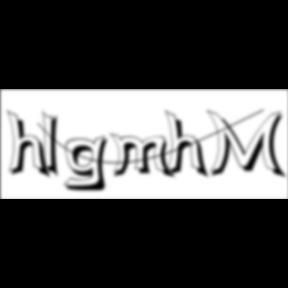M: (206, 108, 288, 181)
g: (64, 134, 116, 194)
h: (7, 108, 54, 182), (166, 108, 212, 182)
l: (42, 108, 66, 182)
m: (109, 132, 177, 181)
